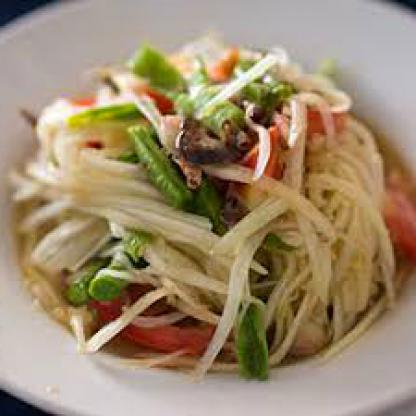Papaya Salad: (2, 39, 403, 394)
